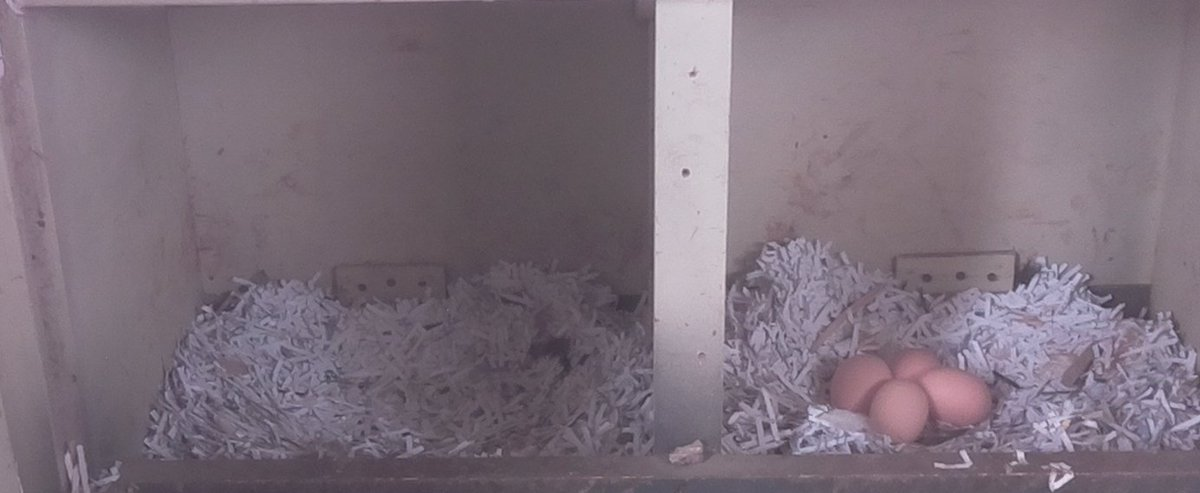egg: (919, 365, 997, 437), (867, 372, 934, 449), (822, 349, 894, 414), (889, 345, 943, 384)
